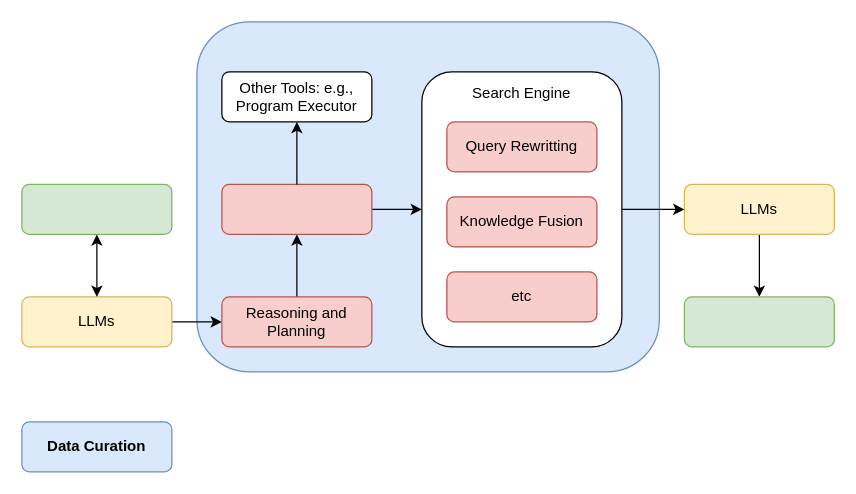
Some shapes in this 856 by 494 pixel diagram are drawn without their labels. The box of each missing label's shape, as (x1, y1, x2, y2) in pixels:
Final Answer: (683, 296, 834, 347)
Iteration and Reflection: (196, 21, 659, 372)
Tool Utilization: (221, 183, 372, 234)
User Query: (21, 183, 172, 234)
